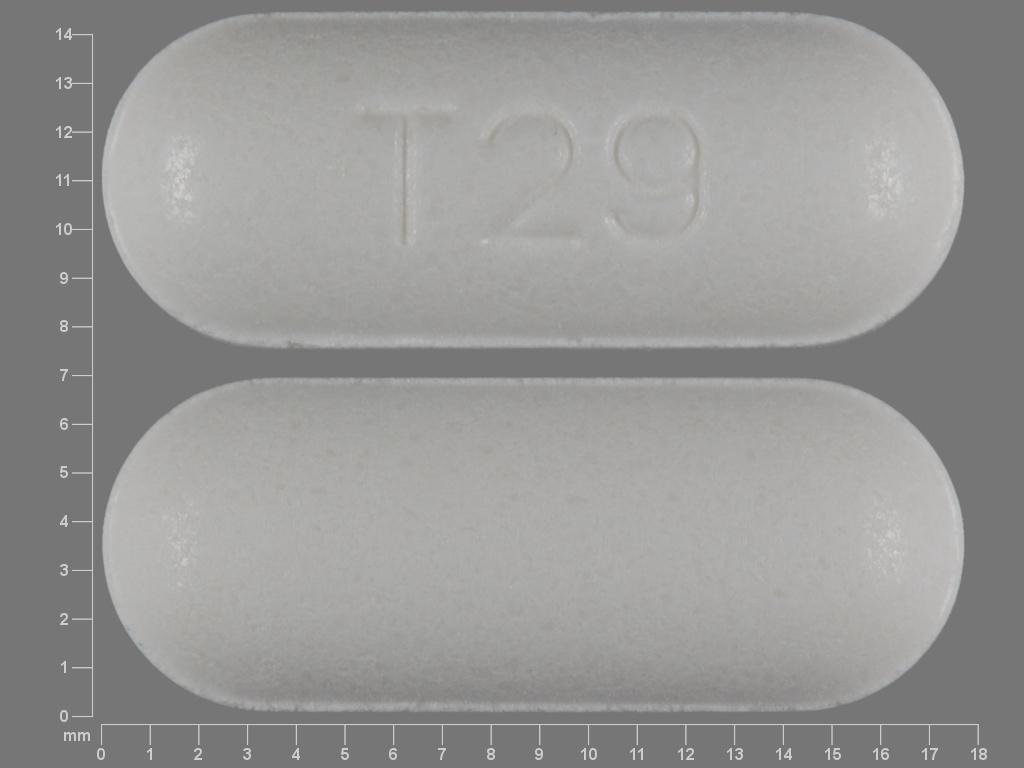Pill: (96, 3, 974, 356), (98, 369, 972, 721)
